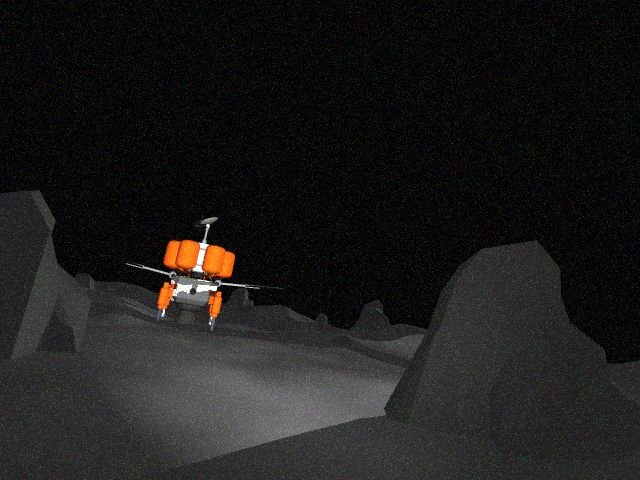homebase: (106, 213, 287, 333)
